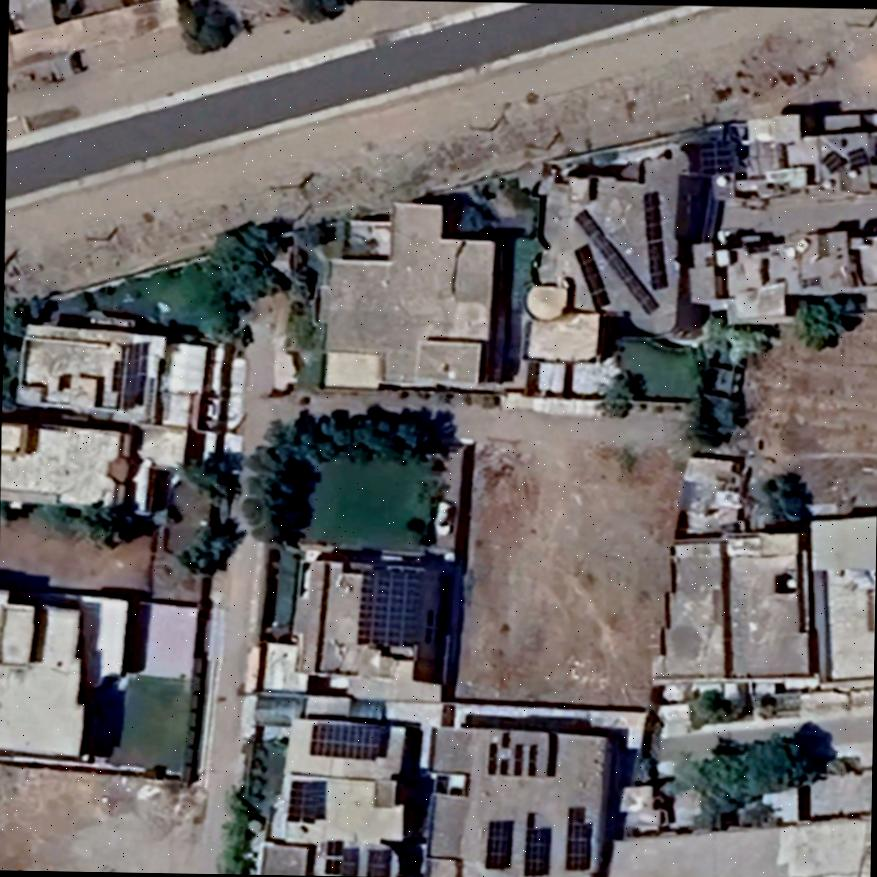Solarpanel: (571, 208, 661, 315), (356, 563, 424, 646), (308, 718, 385, 760), (570, 245, 613, 311), (640, 192, 668, 292), (562, 803, 593, 871), (523, 810, 553, 877), (125, 338, 148, 410), (482, 818, 513, 870), (696, 135, 736, 175), (287, 780, 324, 821), (364, 847, 389, 875), (343, 844, 360, 874), (323, 837, 344, 857), (324, 855, 339, 874)
